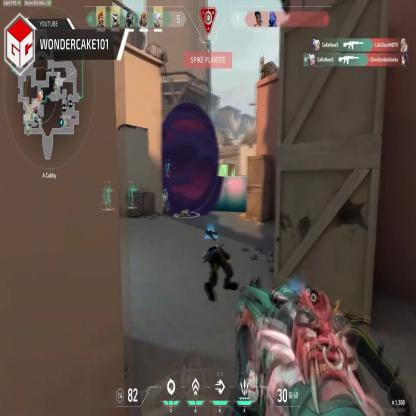enemy: (162, 189, 171, 214)
enemy_head: (165, 190, 167, 194)
